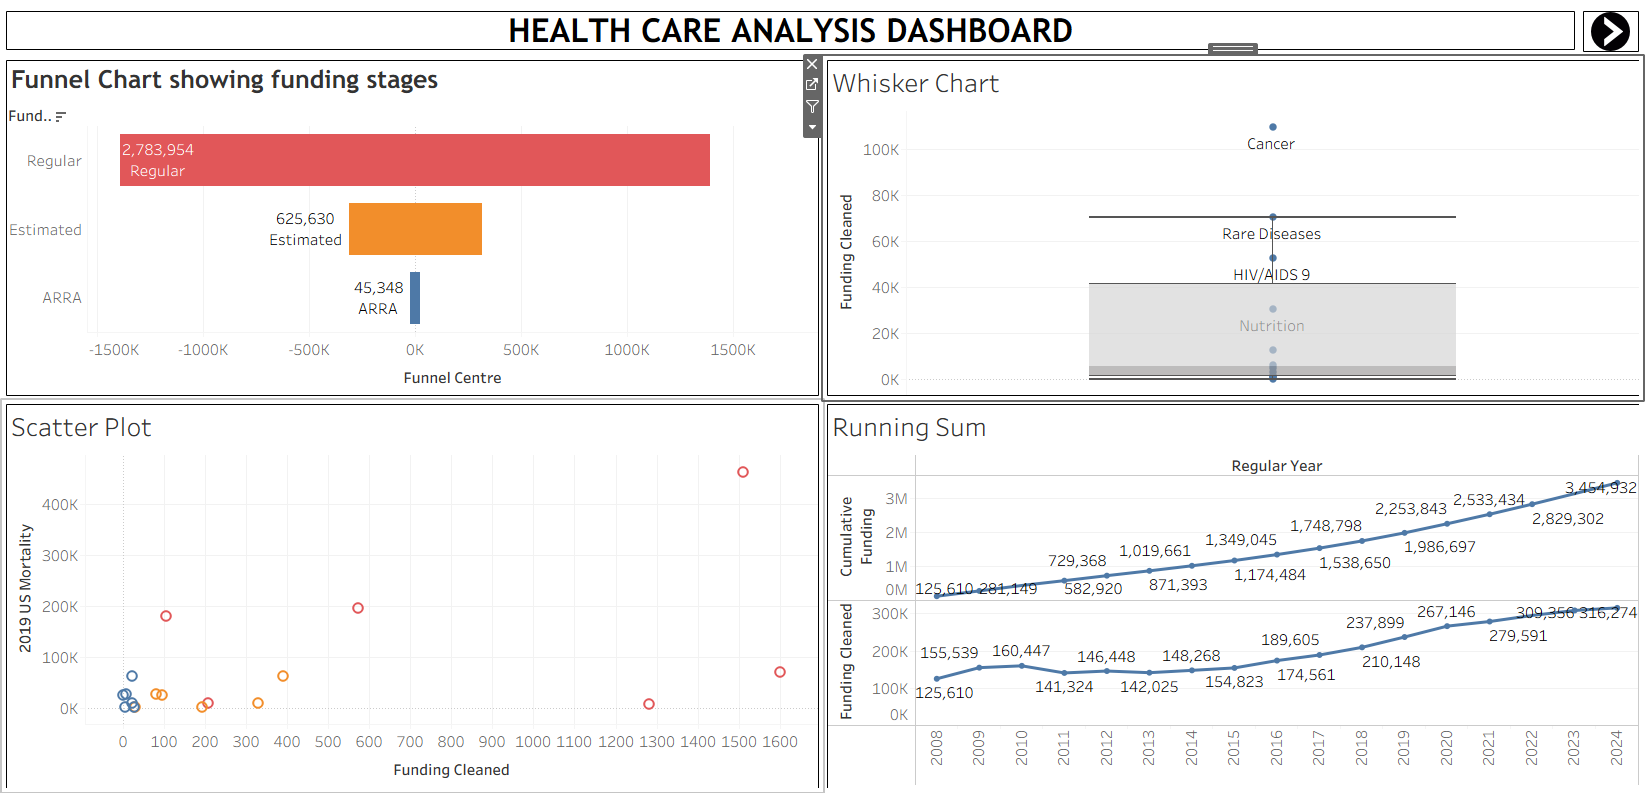

The dashboard page shown, as its layout file describes it:
{"tool":"tableau","page":{"name":"Dashboard 5","canvas":[1000,1000],"units":"permille","ordinal":4},"visuals":[{"type":"text","box":[4.8,10,951.7,58.7]},{"type":"dashboard-object","box":[956.6,10,38.6,61.2]},{"type":"worksheet","title":"Funnel Chart","mark":"GanttBar","rows":["Calculation_335518175856508929"],"cols":["Calculation_1005991570787364866"],"box":[4.8,71.2,495.2,428.8]},{"type":"worksheet","title":"Whisker Chart","mark":"Circle","rows":["Calculation_335518175856336896"],"box":[500,71.2,495.2,428.8]},{"type":"worksheet","title":"Scatter Plot","mark":"Automatic","rows":["2019 US Mortality"],"cols":["Calculation_335518175856336896"],"box":[4.8,500,495.2,490]},{"type":"worksheet","title":"Running Sum","mark":"Automatic","rows":["Calculation_1175158031916187652","Calculation_335518175856336896"],"cols":["Calculation_335518175857041411"],"box":[500,500,495.2,490]}]}

Visuals, with their boxes on the dashboard's canvas, which has no fixed pixel size, in thousandths of its width and height (x1, y1, x2, y2). These are canvas units, not pixel positions in the 1650x793 screenshot, which may show the page scaled, cropped or inside an application window:
text: [5,10,956,69]
dashboard-object: [957,10,995,71]
"Funnel Chart" worksheet (GanttBar marks): [5,71,500,500]
"Whisker Chart" worksheet (Circle marks): [500,71,995,500]
"Scatter Plot" worksheet: [5,500,500,990]
"Running Sum" worksheet: [500,500,995,990]
